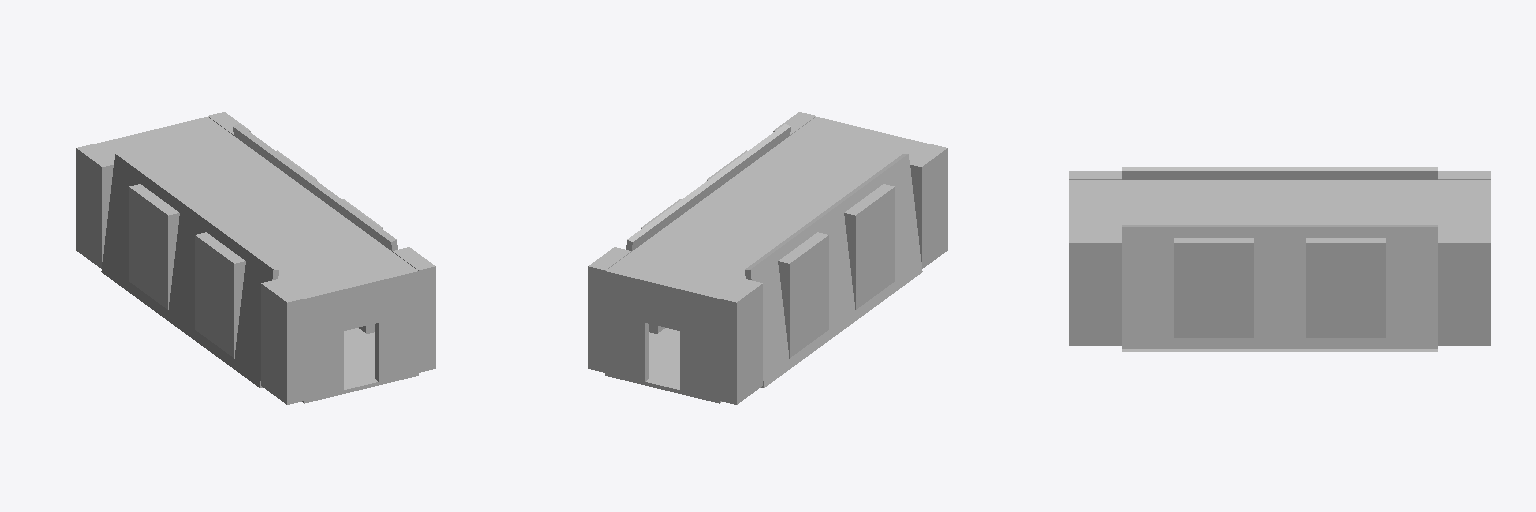
Rendered from LC_room2_2.obj.
The picture shows the model from 3 angles: view 1: azimuth 30°, elevation 25°; view 2: azimuth 150°, elevation 25°; view 3: azimuth 270°, elevation 25°; orthographic projection.
Visible parts, largest first — view 1: LC_room2_2; view 2: LC_room2_2; view 3: LC_room2_2.
Part boxes in pixels (bbox=[...]): LC_room2_2: bbox=[76, 112, 435, 404]; LC_room2_2: bbox=[588, 112, 947, 404]; LC_room2_2: bbox=[1069, 167, 1490, 351].
Size of the model in its own units: 8.25 by 6.21 by 20.